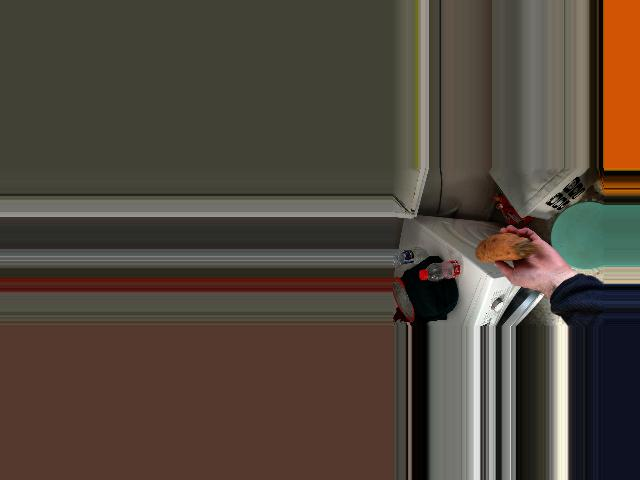sweet_potato: (461, 235, 529, 261)
